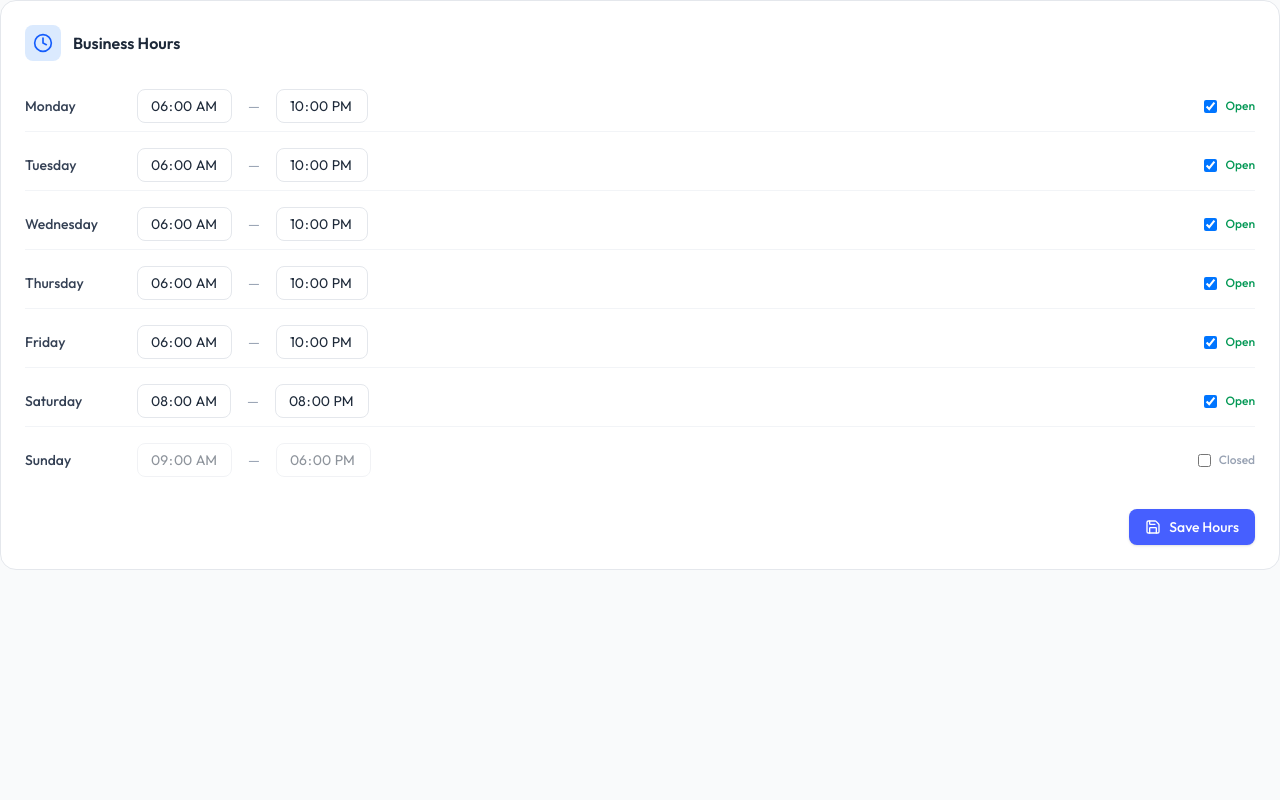
Test: BusinessHoursCard › disables the time inputs of a closed day
This screenshot has width=1280, height=800.
Expected: the time field named "Sunday opening time" is disabled, [137,443,232,477]
Click the checkbox named "Sunday open": {"x": 1204, "y": 460} [1198,454,1211,466]
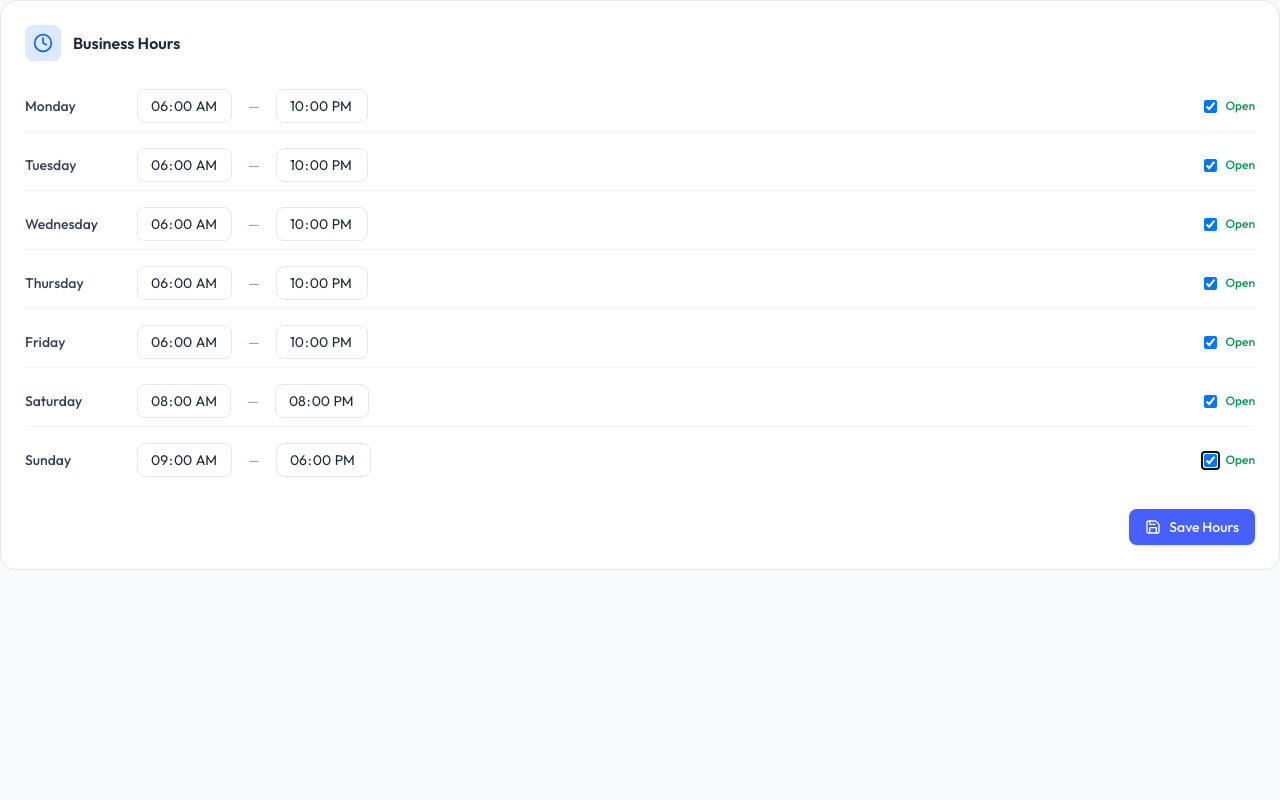
Expected: the time field named "Sunday opening time" is enabled, [137,443,232,477]
